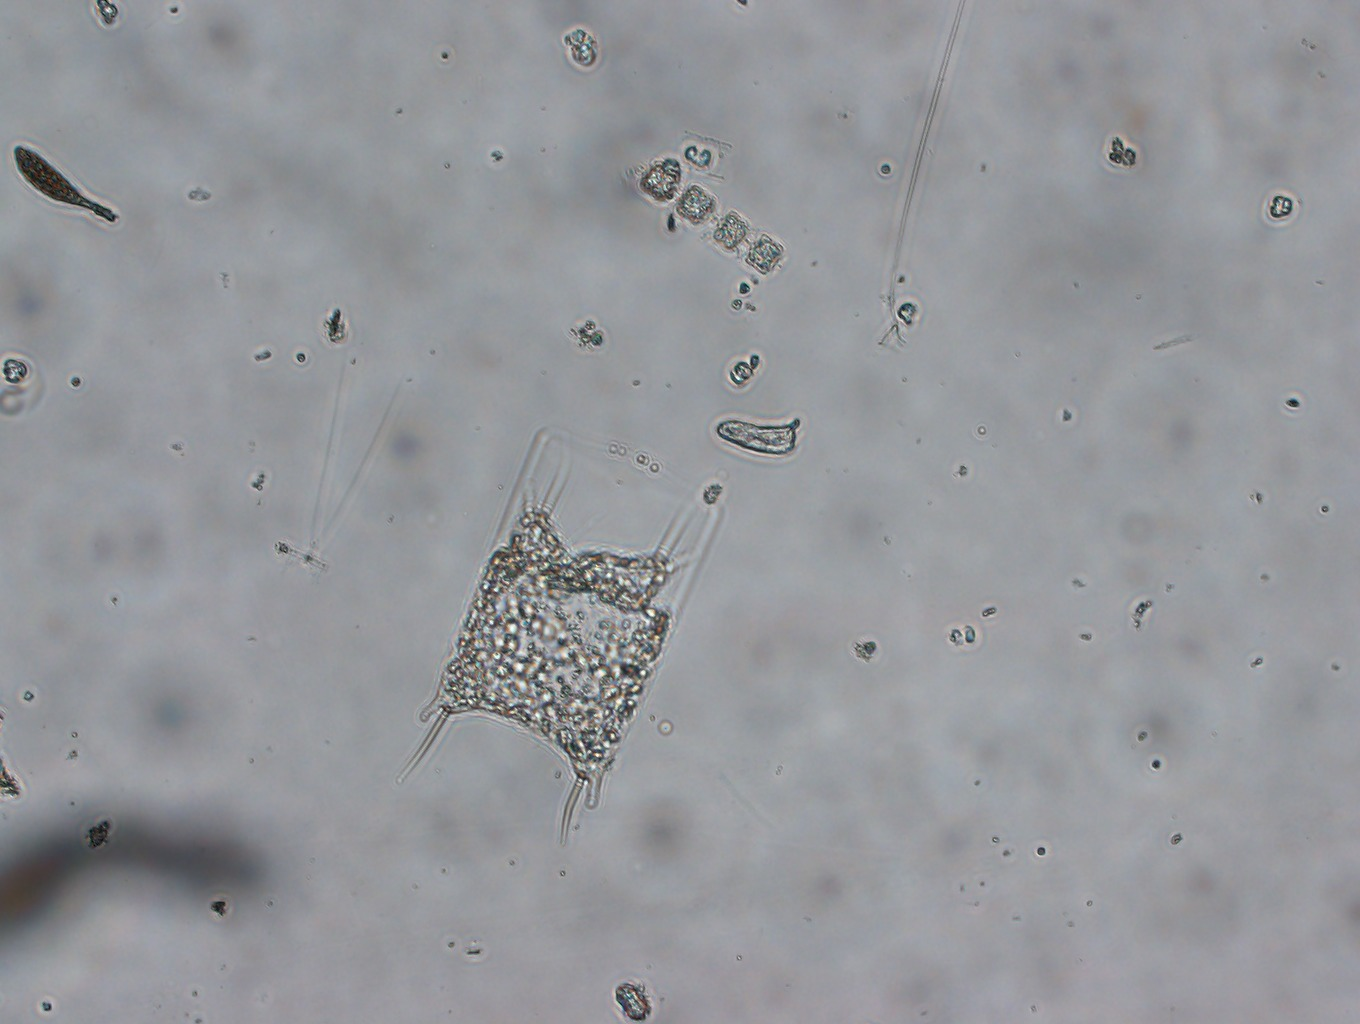biddulphia: (389, 412, 726, 845)
detonula pumila: (624, 142, 786, 285)
